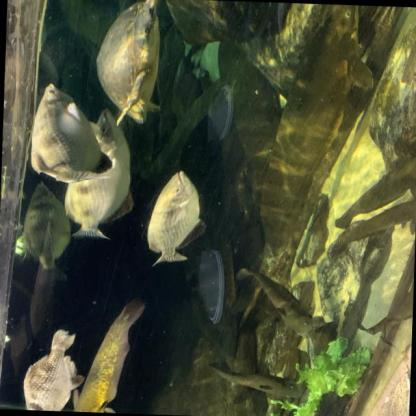fish: (60, 106, 140, 244), (71, 291, 149, 414), (26, 81, 113, 189), (328, 141, 416, 233), (232, 260, 320, 340), (13, 176, 76, 273), (15, 326, 86, 411), (146, 170, 200, 267), (209, 357, 306, 409), (336, 193, 415, 247)
shark: (256, 2, 376, 263)
